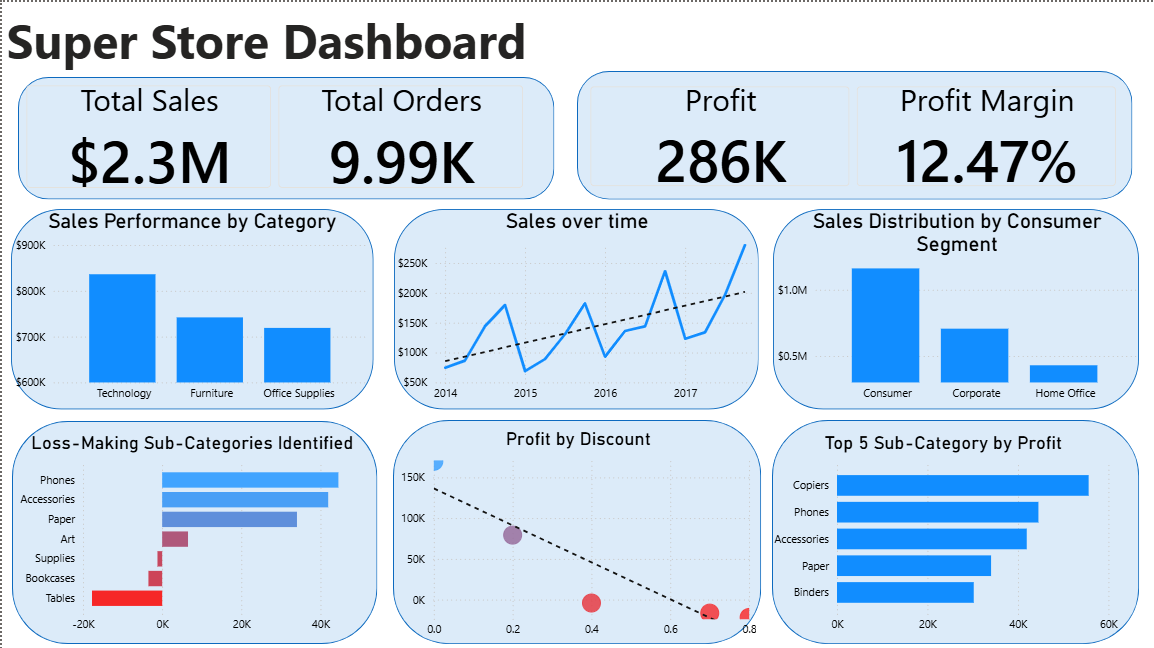

The page's visual inventory and layout, read from the dashboard file:
{"tool":"powerbi","page":{"name":"Super store dashboard","canvas":[1280,720],"ordinal":0},"visuals":[{"type":"shape","box":[10,230.2,402.9,222.7],"z":0,"group":"g1"},{"type":"shape","box":[855.8,465.4,407.9,249],"z":1000,"group":"g1"},{"type":"shape","box":[434.2,465.4,409.1,249],"z":2000,"group":"g1"},{"type":"shape","box":[11.5,466.1,405.9,247.8],"z":3000,"group":"g1"},{"type":"shape","box":[857.1,230.2,406.6,222.7],"z":4000,"group":"g1"},{"type":"shape","box":[435.4,230.2,405.4,222.7],"z":6000,"group":"g1"},{"type":"shape","box":[17.4,84.2,595.9,136.1],"z":8000,"group":"g1"},{"type":"shape","box":[638.6,77.1,617.1,142.9],"z":9000,"group":"g1"},{"type":"group","id":"g1","title":"Group 1","box":[10,77.1,1253.7,637.3],"z":9500},{"type":"columnChart","title":"Sales Performance by Category","fields":{"Category":["Sheet2.Category"],"Y":["_measures.Total Sales"]},"box":[10,230.2,402.9,222.7],"z":10000},{"type":"lineChart","title":"Sales over time","fields":{"Category":["Sheet2.Order Date.Variation.Date Hierarchy.Year","Sheet2.Order Date.Variation.Date Hierarchy.Quarter","Sheet2.Order Date.Variation.Date Hierarchy.Month","Sheet2.Order Date.Variation.Date Hierarchy.Day"],"Y":["_measures.Total Sales"]},"box":[434.2,230.2,409.1,222.7],"z":11000},{"type":"textbox","box":[0,0,640,82.9],"z":12000},{"type":"cardVisual","fields":{"Data":["_measures.Total Sales","_measures.Total Orders"]},"box":[10,75,586.2,148.8],"z":13000},{"type":"cardVisual","fields":{"Data":["_measures.Profit","_measures.Profit Margin"]},"box":[637.1,77.1,618.6,145.7],"z":14000},{"type":"barChart","title":"Loss-Making Sub-Categories Identified","fields":{"Category":["Sheet2.Sub-Category"],"Y":["_measures.Profit"]},"box":[10,478,402.9,231.5],"z":15000},{"type":"clusteredBarChart","title":"Top 5 Sub-Category by Profit","fields":{"Category":["Sheet2.Sub-Category"],"Y":["_measures.Profit"]},"box":[848.3,478,396.6,231.5],"z":16000},{"type":"scatterChart","title":"Profit by Discount","fields":{"Y":["_measures.Profit"],"X":["Sheet2.Discount"]},"box":[437.9,473,405.4,241.5],"z":17000},{"type":"columnChart","title":"Sales Distribution by Consumer Segment","fields":{"Y":["_measures.Total Sales"],"Category":["Sheet2.Segment"]},"box":[857.1,230.2,409.1,222.7],"z":18000}]}

Visuals, with their boxes in screenshot pixels (x1, y1, x2, y2), scaled from the page's 1280x720 canvas onto the 1154x648 screenshot:
shape: Rect(9, 207, 372, 408)
shape: Rect(772, 419, 1139, 643)
shape: Rect(391, 419, 760, 643)
shape: Rect(10, 419, 376, 643)
shape: Rect(773, 207, 1139, 408)
shape: Rect(393, 207, 758, 408)
shape: Rect(16, 76, 553, 198)
shape: Rect(576, 69, 1132, 198)
"Group 1" group: Rect(9, 69, 1139, 643)
"Sales Performance by Category" columnChart: Rect(9, 207, 372, 408)
"Sales over time" lineChart: Rect(391, 207, 760, 408)
textbox: Rect(0, 0, 577, 75)
cardVisual - _measures.Total Sales x _measures.Total Orders: Rect(9, 68, 538, 201)
cardVisual - _measures.Profit x _measures.Profit Margin: Rect(574, 69, 1132, 201)
"Loss-Making Sub-Categories Identified" barChart: Rect(9, 430, 372, 639)
"Top 5 Sub-Category by Profit" clusteredBarChart: Rect(765, 430, 1122, 639)
"Profit by Discount" scatterChart: Rect(395, 426, 760, 643)
"Sales Distribution by Consumer Segment" columnChart: Rect(773, 207, 1142, 408)
